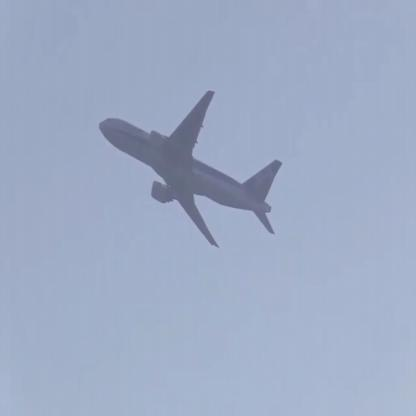CIV_Plane: (100, 91, 288, 250)
